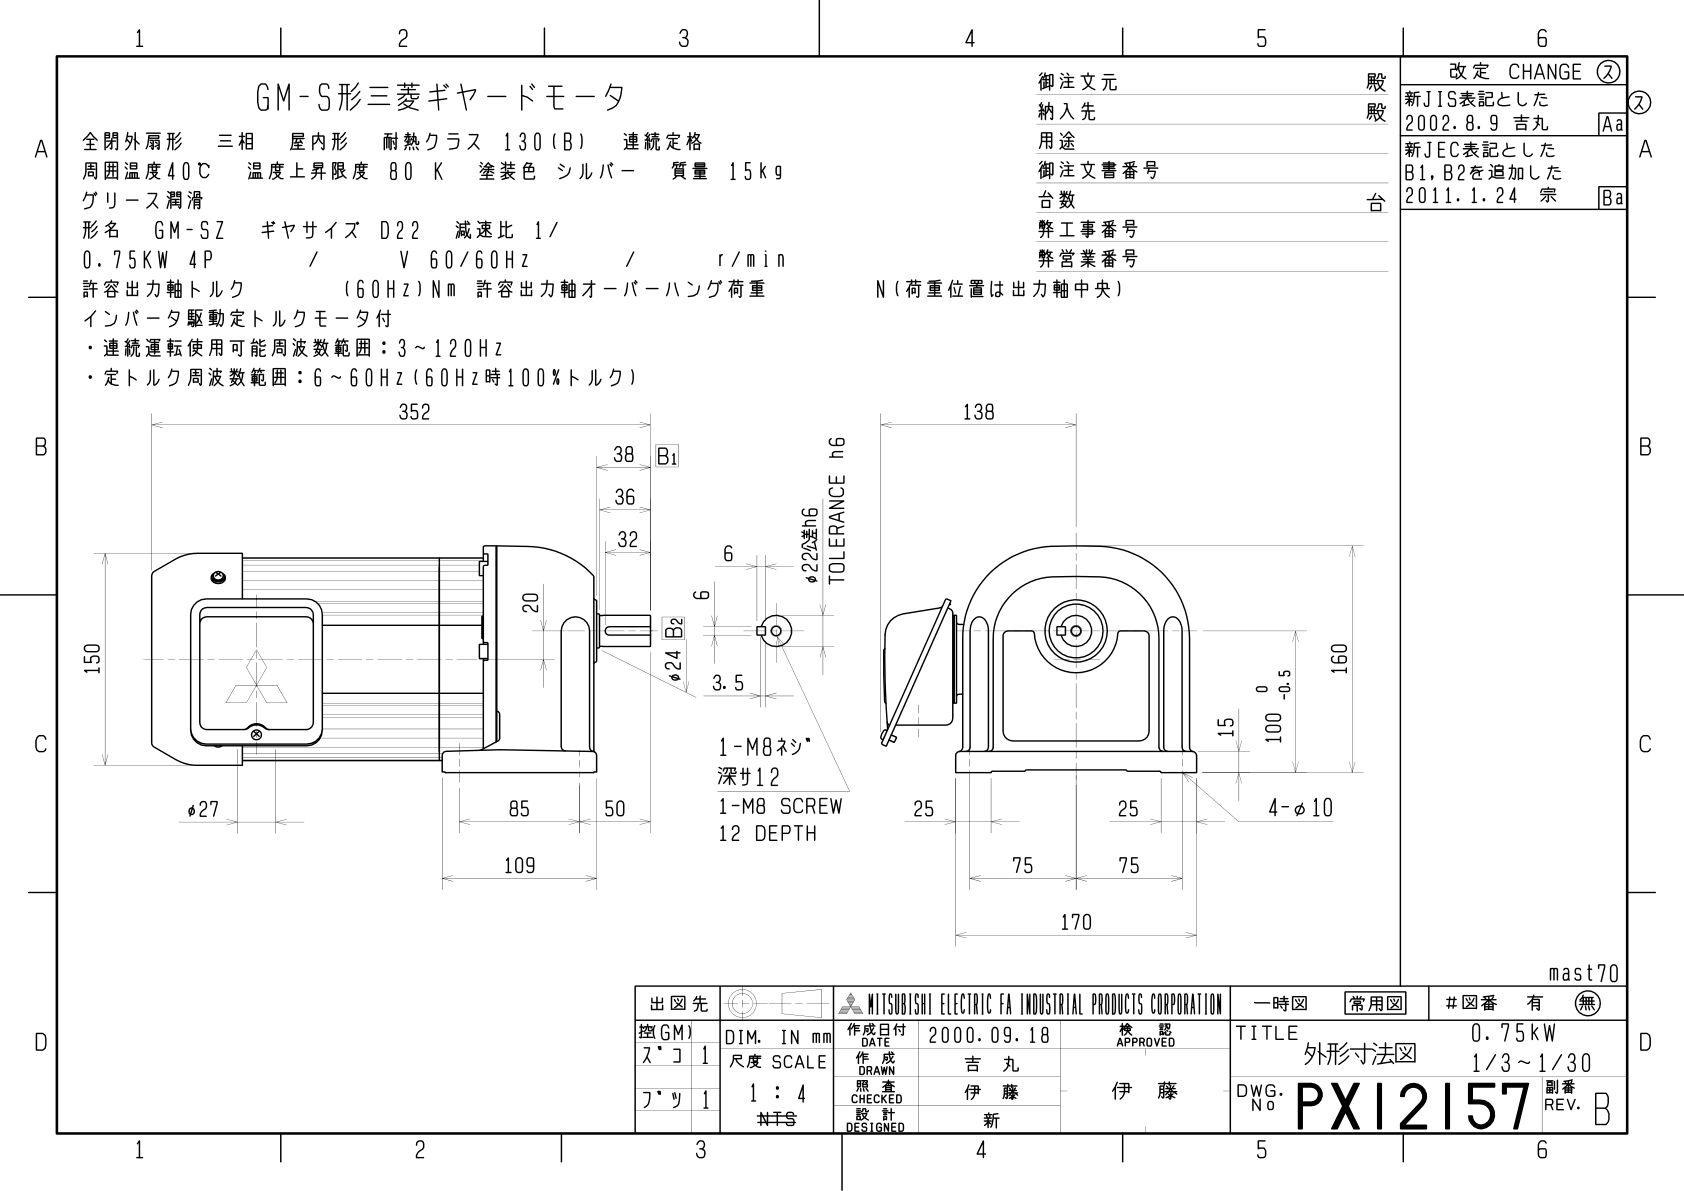GM_S_インバタ屋内＿三相_脚: (6, 13, 1680, 1191)
